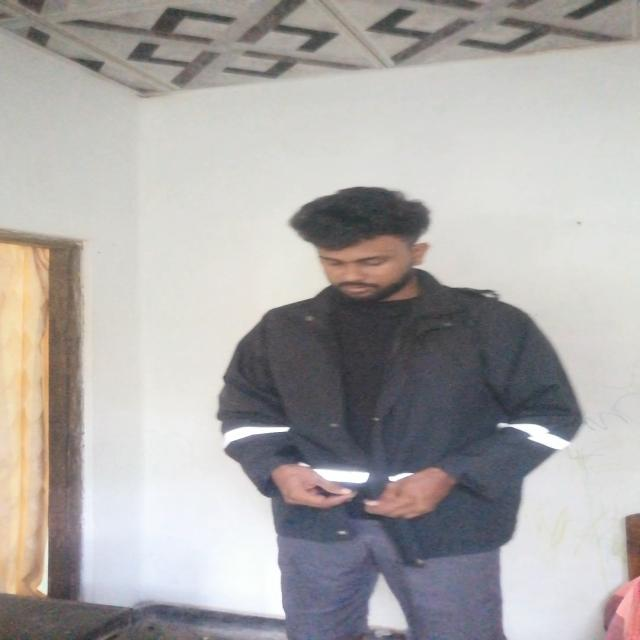Jacket_Wearer: (223, 279, 593, 547)
